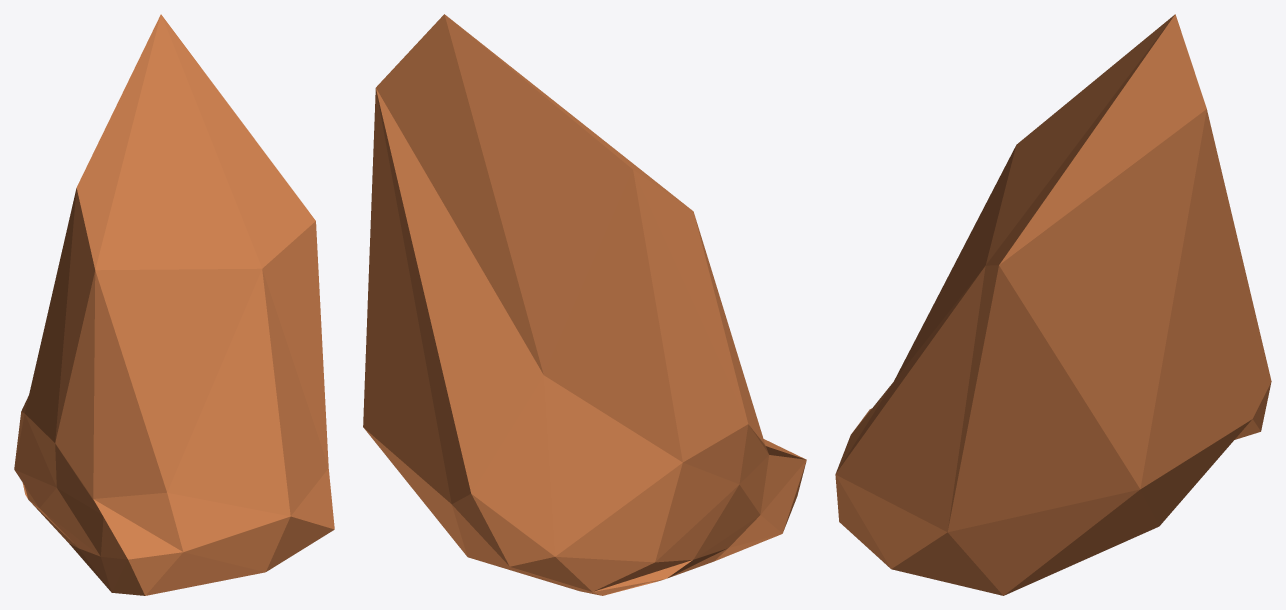
Rendered from Desert_Rock_Variation_2.fbx.
3 views of the same model, side by side, from view 1: azimuth 30°, elevation 25°; view 2: azimuth 150°, elevation 25°; view 3: azimuth 270°, elevation 25° (orthographic). The views are drawn at different scales.
Visible parts, largest first — view 1: Desert_Rock_Variation_2; view 2: Desert_Rock_Variation_2; view 3: Desert_Rock_Variation_2.
Boxes of the visible parts, left/top/right/bottom form: Desert_Rock_Variation_2: left=14, top=14, right=334, bottom=595; Desert_Rock_Variation_2: left=363, top=14, right=806, bottom=595; Desert_Rock_Variation_2: left=835, top=14, right=1271, bottom=595.
Size of the model in its own units: 52.78 by 92.13 by 65.74.
